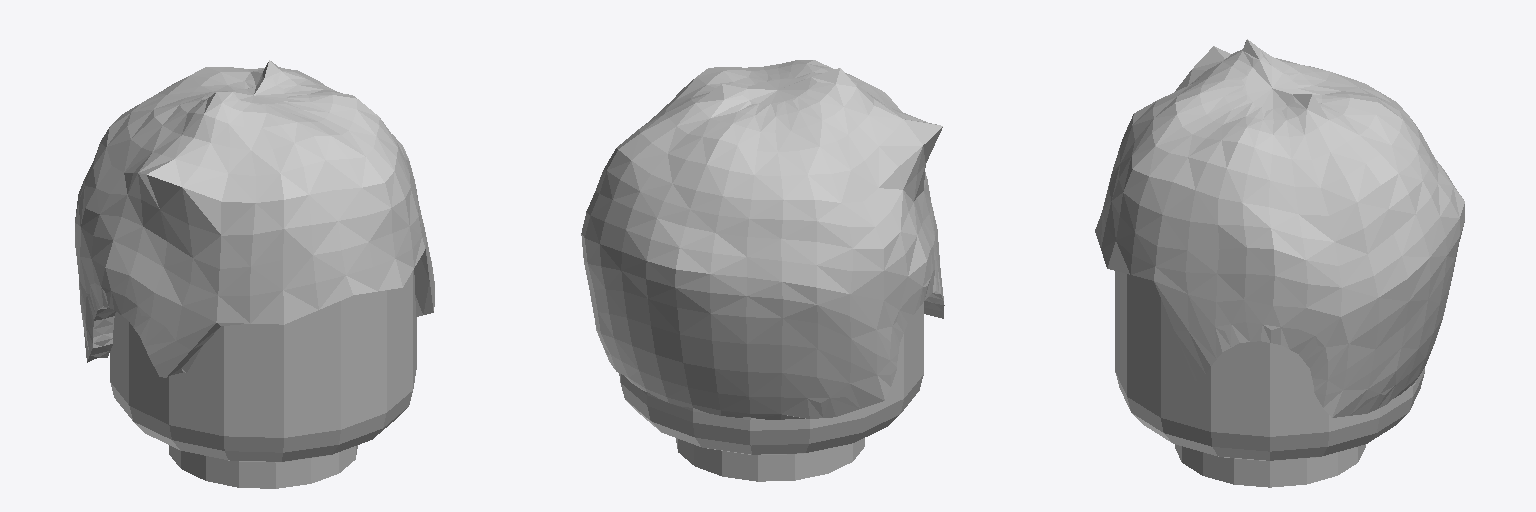
Rendered from Cabeza.obj.
3 renders of one model, left to right at view 1: azimuth 30°, elevation 25°; view 2: azimuth 150°, elevation 25°; view 3: azimuth 270°, elevation 25°, orthographic.
Visible parts, largest first — view 1: Cabeza1:pasted__pasted__hair1 group; view 2: Cabeza1:pasted__pasted__hair1 group; view 3: Cabeza1:pasted__pasted__hair1 group.
Part boxes in pixels (x1,y1,x2,y2): Cabeza1:pasted__pasted__hair1 group: (75, 60, 434, 488); Cabeza1:pasted__pasted__hair1 group: (581, 60, 944, 481); Cabeza1:pasted__pasted__hair1 group: (1095, 39, 1464, 487).
Bounding box in the file's own units: 1.83 × 2.15 × 1.9.